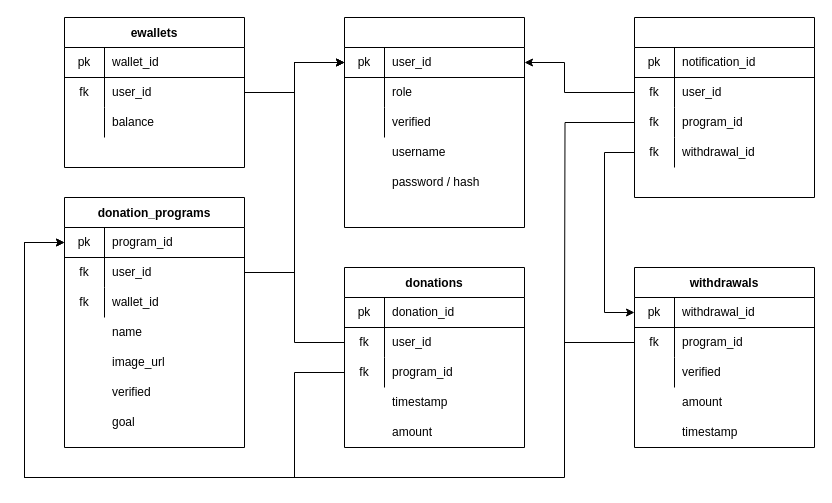
This 832x503 diagram has some shape labels left out. Each missing label, with the box of its shape:
notifications: (634, 16, 814, 198)
users: (344, 16, 524, 228)
